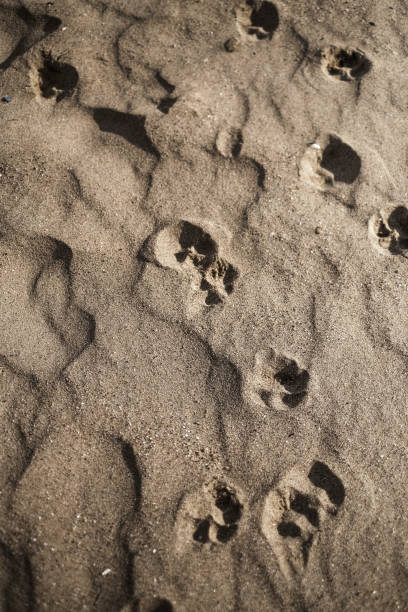animal_footprint: (261, 460, 344, 580), (143, 221, 237, 305), (176, 482, 243, 549), (246, 348, 309, 410), (0, 6, 61, 69), (299, 134, 360, 189), (32, 53, 78, 101), (369, 205, 408, 255), (320, 46, 370, 81), (236, 0, 278, 39)
